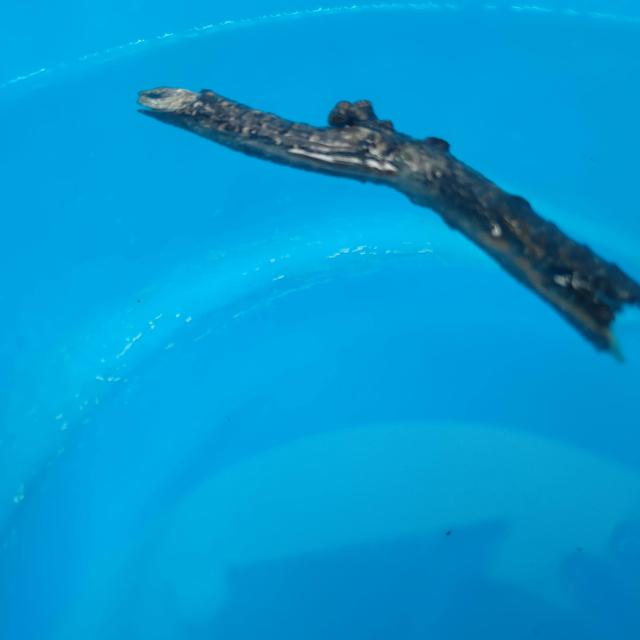litter: (126, 56, 640, 393)
